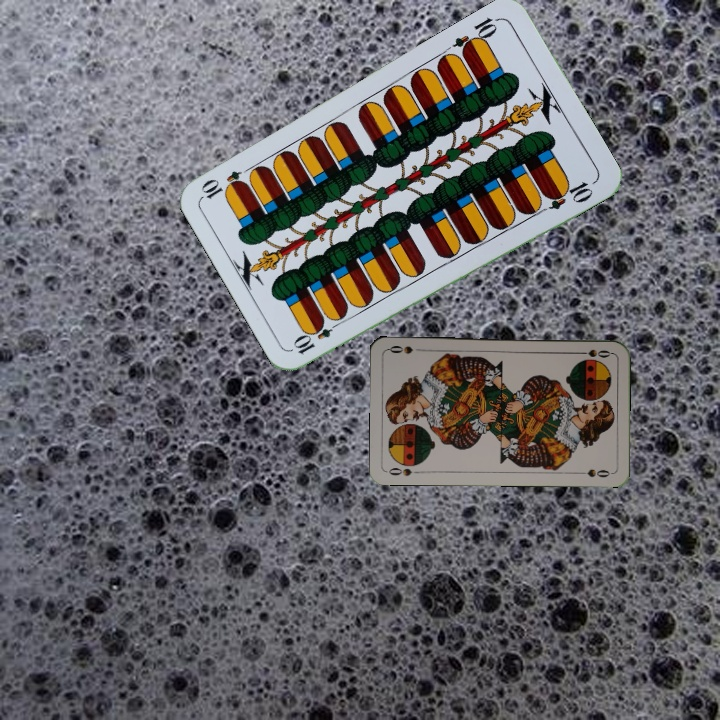E10: (449, 13, 503, 58), (290, 315, 344, 357)
SO: (385, 463, 424, 479), (574, 345, 614, 360)
